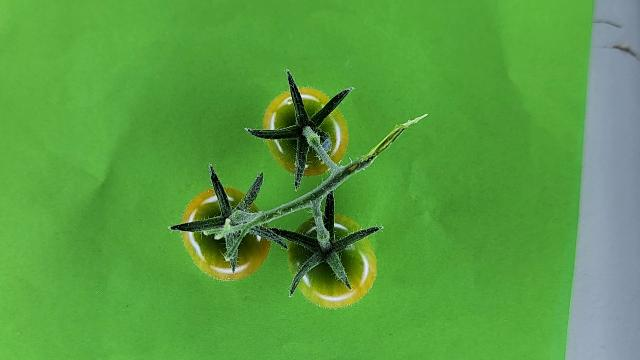Fully Grown: (179, 185, 273, 281), (287, 212, 377, 308), (262, 86, 349, 176)
